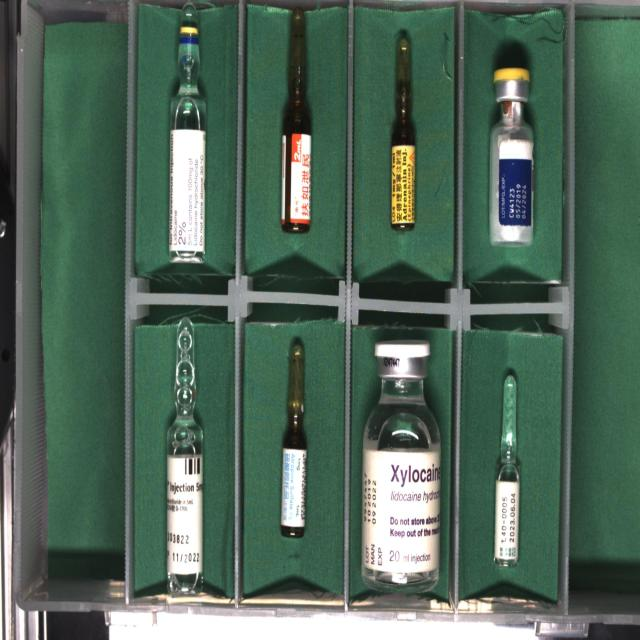Vials: (361, 341, 440, 591), (489, 68, 533, 245)
